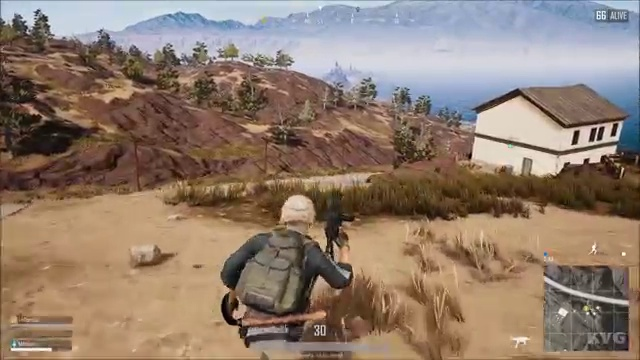Player: (206, 186, 388, 314)
